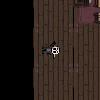Jason: (41, 40, 60, 59)
